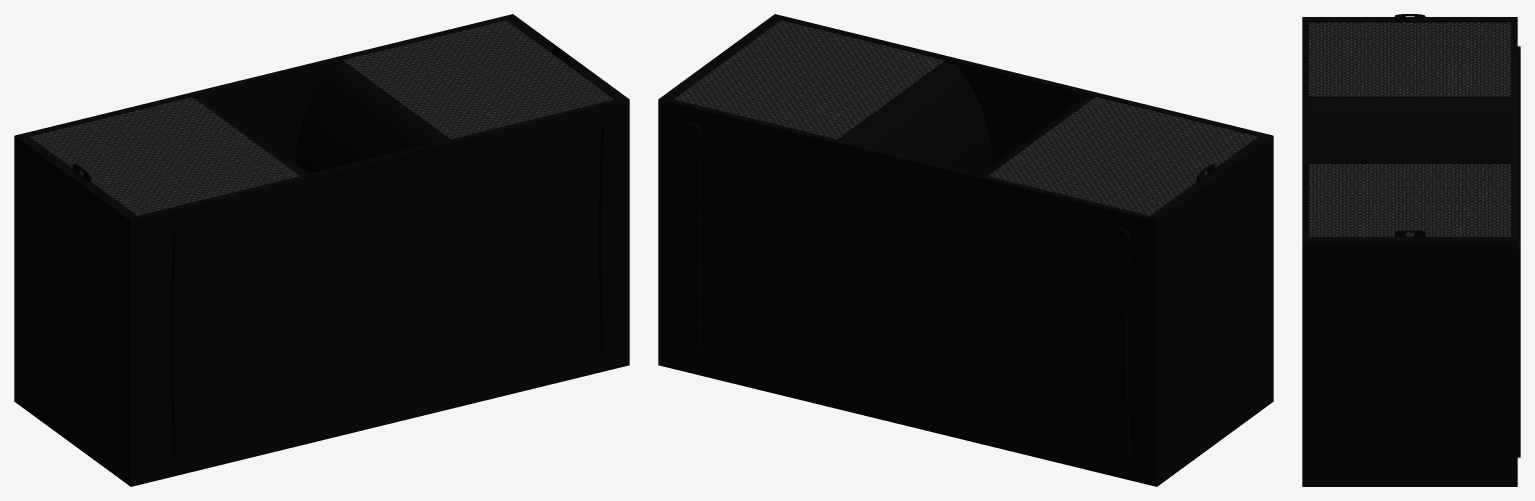
Rendered from subwoofer.fbx.
3 views of the same model, side by side, from view 1: azimuth 30°, elevation 25°; view 2: azimuth 150°, elevation 25°; view 3: azimuth 270°, elevation 25° (orthographic). The views are drawn at different scales.
Parts seen in each view (by area): view 1: empty_6.001; view 2: empty_6.001; view 3: empty_6.001.
Boxes of the visible parts, x1,y1,x2,y2 form: empty_6.001: [14, 14, 629, 486]; empty_6.001: [658, 14, 1273, 486]; empty_6.001: [1302, 14, 1520, 486].
Bounding box in the file's own units: 134 × 70.2 × 55.
Materials: 2 (1 with a texture image).
